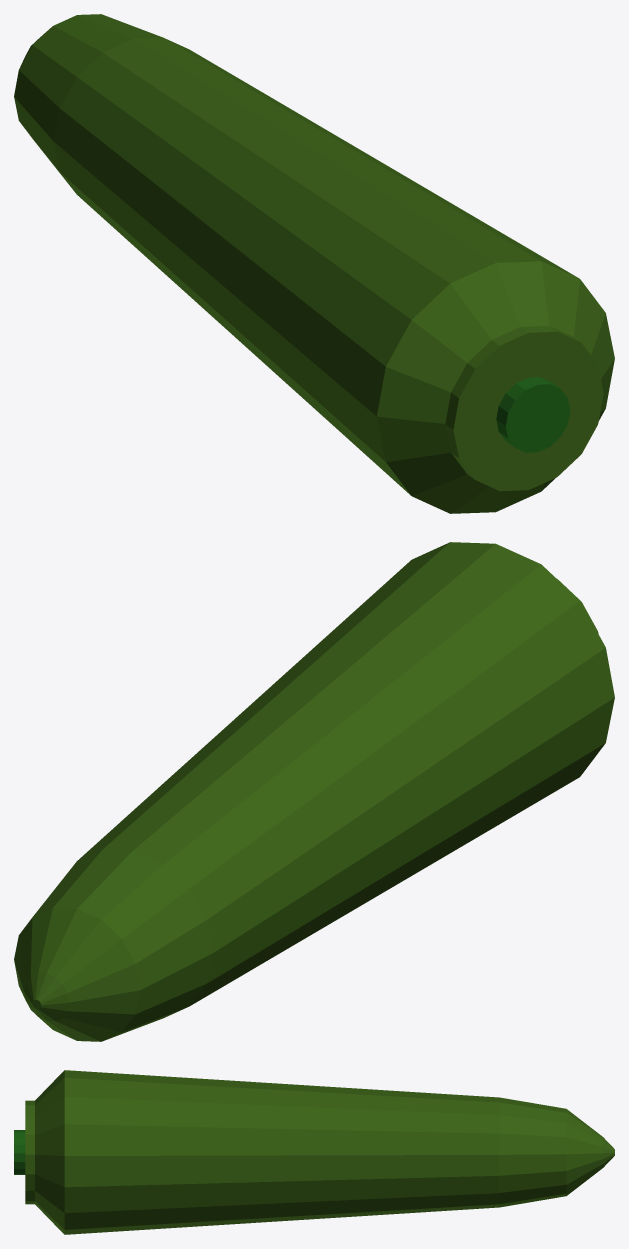
The model's file is fruit04.fbx.
The picture shows the model from 3 angles, top to bottom: view 1: azimuth 30°, elevation 25°; view 2: azimuth 150°, elevation 25°; view 3: azimuth 270°, elevation 25°; orthographic projection. The views are drawn at different scales.
Visible parts, largest first — view 1: Cylinder.005; view 2: Cylinder.005; view 3: Cylinder.005.
Part boxes in pixels (<box>): Cylinder.005: <box>14,14,614,513</box>; Cylinder.005: <box>14,542,614,1041</box>; Cylinder.005: <box>14,1070,614,1234</box>.
Size of the model in its own units: 0.081 by 0.081 by 0.2952.
